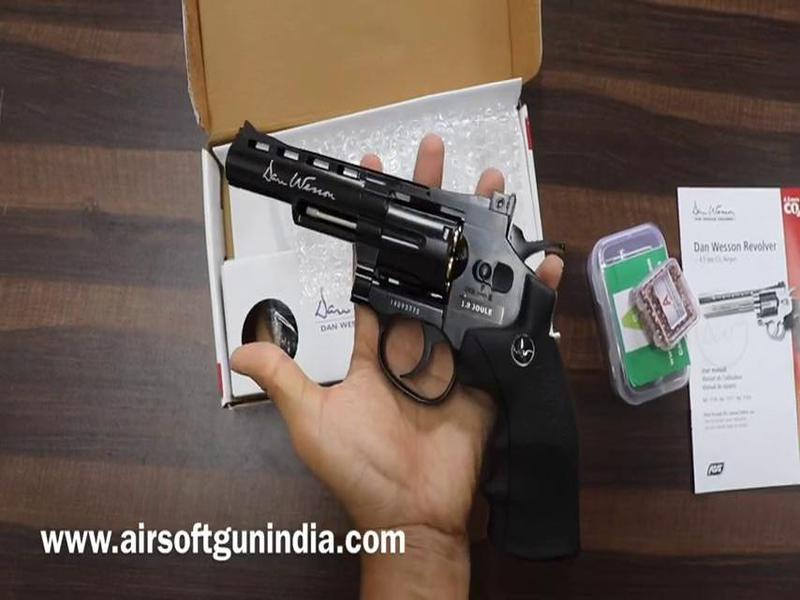Revolver: (202, 101, 596, 582)
